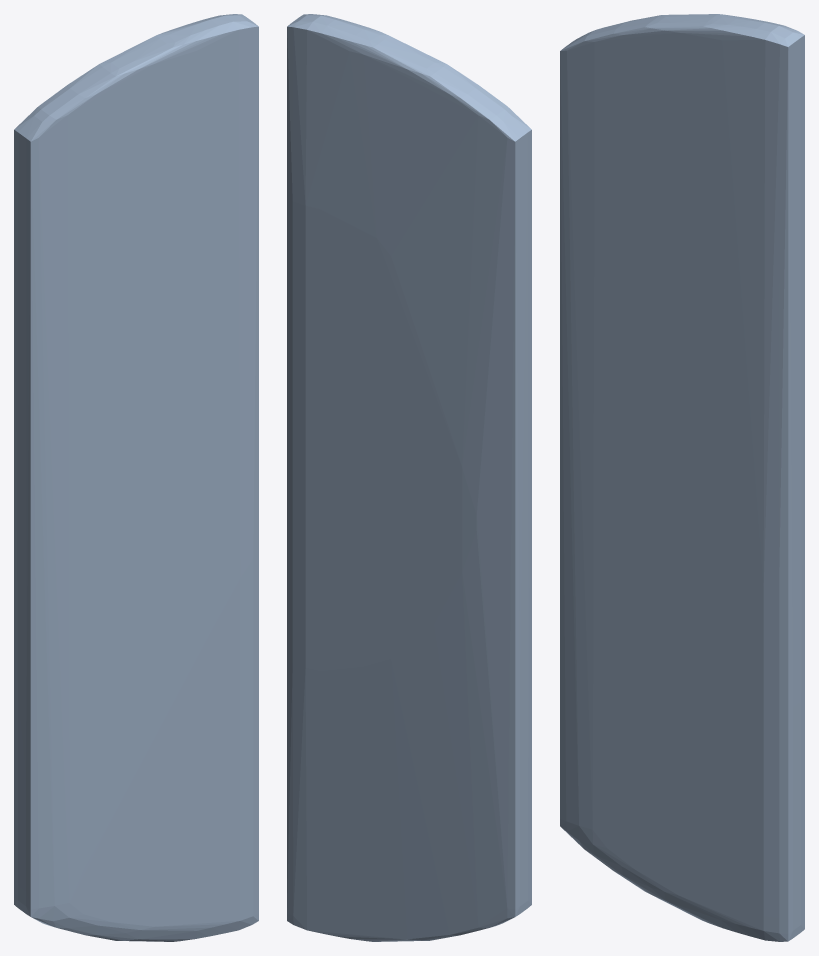
File: left_forearm_0_part_6.obj
The picture shows the model from 3 angles, left to right: view 1: azimuth 30°, elevation 25°; view 2: azimuth 150°, elevation 25°; view 3: azimuth 330°, elevation 25°; orthographic projection.
Bounding box in the file's own units: 36.15 × 137 × 6.22.
